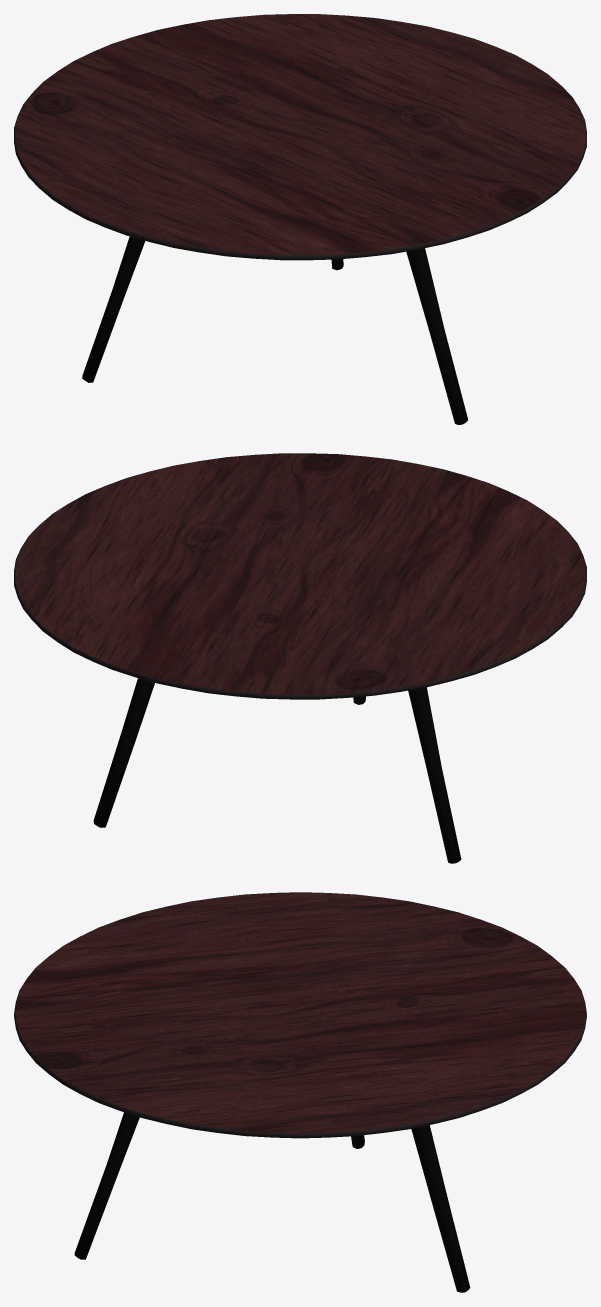
The picture shows the model from 3 angles, top to bottom: view 1: azimuth 30°, elevation 25°; view 2: azimuth 150°, elevation 25°; view 3: azimuth 270°, elevation 25°; orthographic projection.
Parts seen in each view (by area): view 1: CoffeeTable_0; view 2: CoffeeTable_0; view 3: CoffeeTable_0.
Part boxes in pixels (x1,y1,x2,y2): CoffeeTable_0: (14, 14, 586, 424); CoffeeTable_0: (14, 453, 586, 863); CoffeeTable_0: (14, 892, 586, 1292).
Size of the model in its own units: 1.01 by 0.4358 by 1.01.
Materials: 3 (1 with a texture image).
